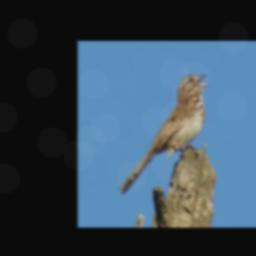Sparrow: (116, 72, 209, 196)
